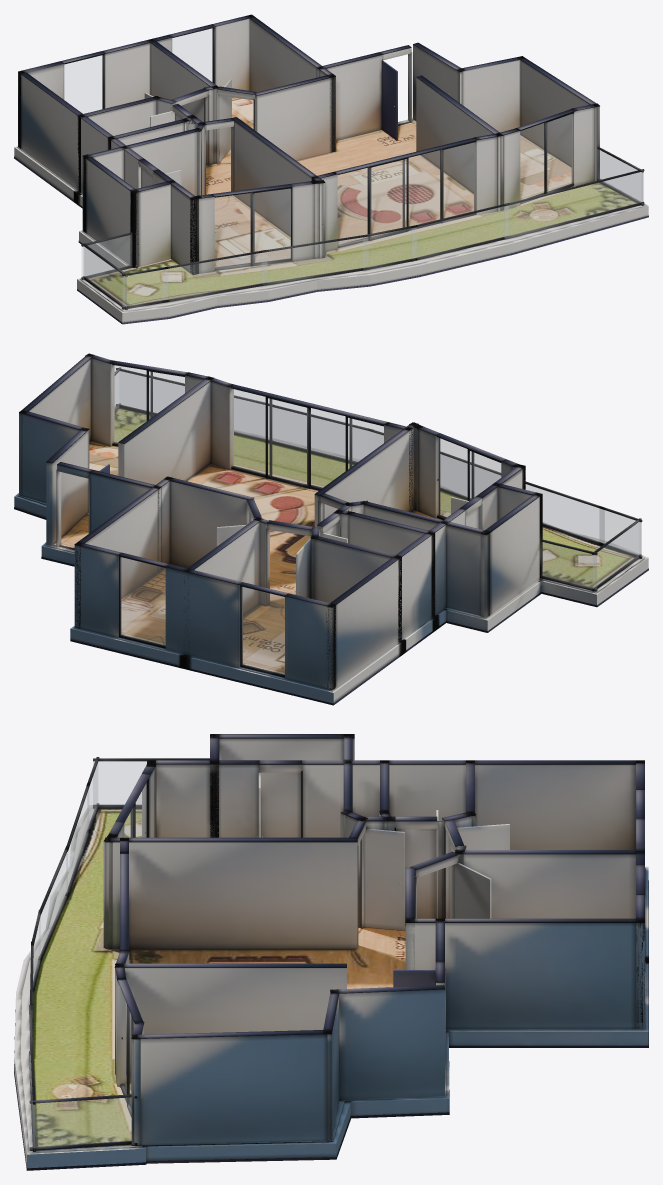
3 renders of one model, top to bottom at view 1: azimuth 30°, elevation 25°; view 2: azimuth 150°, elevation 25°; view 3: azimuth 270°, elevation 25°, orthographic. The views are drawn at different scales.
Parts seen in each view (by area): view 1: plan, glass2_m, glass4_m, railg16_m, glass3_m, railg18_m, railg11_m, railg17_m, glass0_m, railg14_m, railg0_m, railg19_m (+3 smaller); view 2: plan, glass2_m, glass1_m, glass3_m, glass0_m, glass4_m, railg17_m, railg16_m, railg11_m, railg0_m, railg6_m, railg19_m (+1 smaller); view 3: plan, railg15_m, railg6_m, railg18_m, railg11_m, glass3_m, glass4_m.
Part boxes in pixels (bbox=[...]): plan: bbox=[14, 14, 648, 324]; glass2_m: bbox=[338, 142, 475, 245]; glass4_m: bbox=[215, 189, 290, 267]; railg16_m: bbox=[504, 172, 643, 236]; glass3_m: bbox=[520, 114, 572, 199]; railg18_m: bbox=[261, 237, 368, 283]; railg11_m: bbox=[162, 252, 266, 299]; railg17_m: bbox=[411, 206, 508, 258]; glass0_m: bbox=[64, 55, 102, 113]; railg14_m: bbox=[363, 227, 416, 267]; railg0_m: bbox=[82, 235, 131, 277]; railg19_m: bbox=[122, 269, 167, 306]; plan: bbox=[14, 353, 648, 705]; glass2_m: bbox=[232, 389, 383, 488]; glass1_m: bbox=[120, 557, 165, 645]; glass3_m: bbox=[113, 365, 184, 443]; glass0_m: bbox=[242, 587, 284, 674]; glass4_m: bbox=[438, 438, 500, 517]; railg17_m: bbox=[268, 406, 367, 461]; railg16_m: bbox=[120, 371, 264, 438]; railg11_m: bbox=[526, 484, 604, 543]; railg0_m: bbox=[541, 542, 596, 588]; railg6_m: bbox=[593, 522, 640, 588]; railg19_m: bbox=[599, 509, 641, 555]; plan: bbox=[14, 734, 648, 1170]; railg15_m: bbox=[30, 1097, 131, 1147]; railg6_m: bbox=[93, 761, 146, 804]; railg18_m: bbox=[39, 852, 67, 958]; railg11_m: bbox=[66, 790, 88, 894]; glass3_m: bbox=[122, 993, 134, 1104]; glass4_m: bbox=[124, 785, 145, 837].
Bounding box in the file's own units: 15.86 × 2.62 × 12.16.
Materials: 2 (1 with a texture image).
